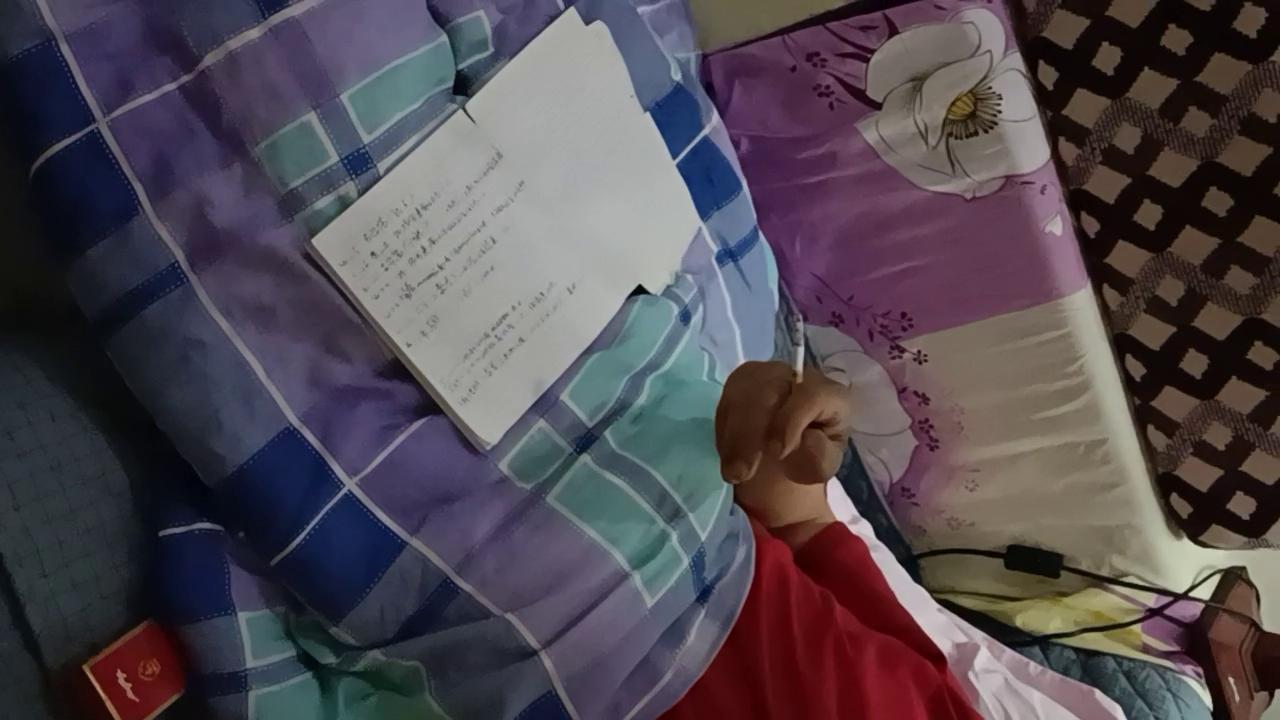smoke: (792, 312, 805, 402)
